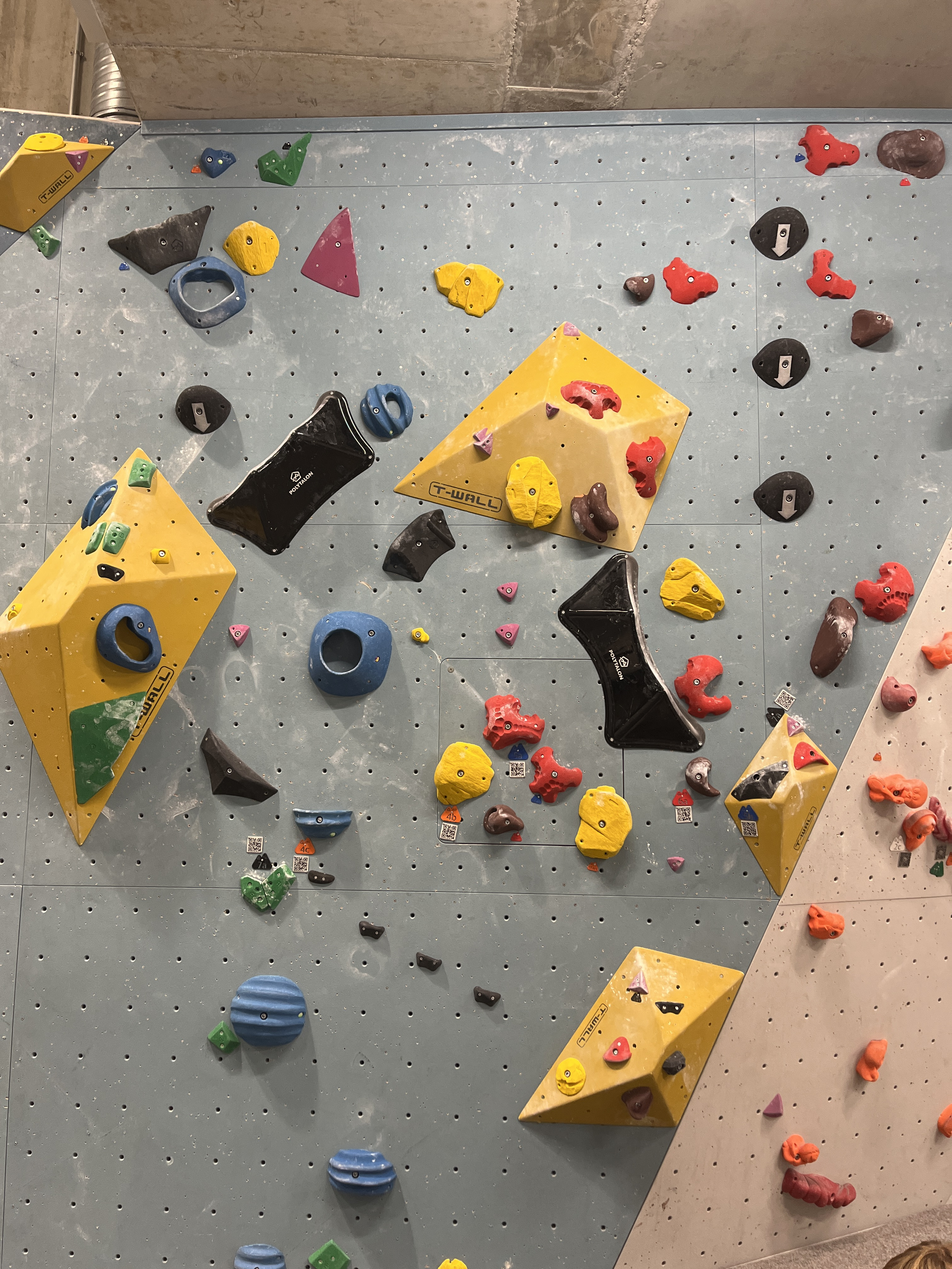hold: (558, 553, 704, 751), (208, 392, 371, 553), (70, 692, 145, 804), (109, 206, 210, 274), (309, 610, 390, 694), (168, 256, 246, 329), (229, 977, 305, 1045), (202, 729, 275, 798), (384, 510, 454, 578), (303, 208, 357, 295), (97, 605, 160, 672), (575, 787, 631, 858), (810, 597, 858, 677), (507, 456, 559, 525), (434, 742, 490, 805), (436, 263, 502, 315), (662, 559, 722, 616), (855, 563, 910, 620), (878, 129, 942, 176), (485, 696, 543, 747), (676, 656, 727, 714), (751, 206, 807, 257), (258, 133, 311, 186), (329, 1149, 394, 1192), (755, 472, 813, 519), (224, 222, 275, 274), (361, 385, 411, 438), (530, 747, 581, 798), (803, 124, 856, 172), (783, 1168, 855, 1203), (754, 339, 807, 386), (241, 864, 294, 911), (573, 483, 617, 539), (176, 385, 228, 432), (664, 259, 718, 301), (626, 438, 664, 497), (732, 761, 788, 801), (809, 250, 855, 297), (867, 773, 927, 808), (561, 380, 618, 416), (82, 479, 117, 528), (293, 811, 351, 837), (902, 808, 937, 850), (853, 309, 892, 345), (880, 676, 917, 712), (686, 757, 718, 795), (856, 1039, 887, 1078), (807, 906, 842, 938), (200, 147, 236, 178), (928, 796, 952, 842), (557, 1058, 586, 1096), (208, 1021, 240, 1054), (622, 1086, 653, 1120), (307, 1241, 347, 1266), (236, 1245, 283, 1266), (783, 1134, 815, 1164), (794, 741, 827, 770), (922, 630, 950, 664), (29, 226, 60, 256), (485, 805, 521, 830), (102, 522, 130, 554), (128, 458, 156, 488), (24, 132, 65, 152), (604, 1035, 631, 1064), (85, 523, 107, 554), (624, 275, 652, 299), (473, 427, 493, 456), (662, 1050, 686, 1074), (625, 970, 648, 994), (762, 1093, 783, 1118), (97, 563, 124, 581), (229, 624, 250, 646), (416, 952, 440, 971), (474, 987, 498, 1005), (305, 868, 331, 884), (655, 1001, 684, 1015), (361, 920, 383, 938), (498, 624, 517, 644), (938, 1106, 950, 1136), (150, 548, 172, 564), (787, 716, 804, 736), (498, 583, 516, 600), (6, 601, 22, 619), (545, 402, 559, 418), (67, 153, 85, 164), (563, 323, 577, 337), (668, 856, 680, 870), (442, 1259, 466, 1266), (411, 629, 426, 640), (932, 860, 942, 874), (664, 620, 664, 620)
volume: (2, 450, 234, 844), (394, 321, 688, 555), (516, 946, 745, 1128), (723, 713, 839, 898), (0, 132, 113, 231)
